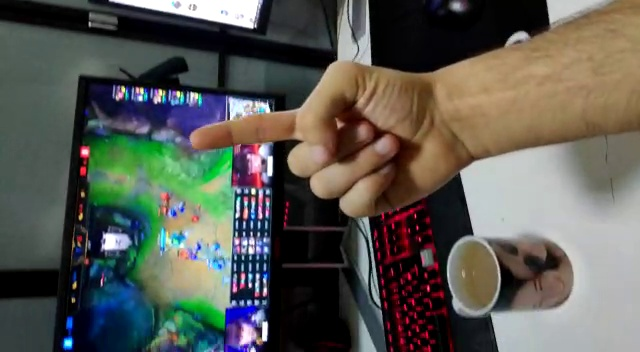One: (188, 52, 487, 223)
